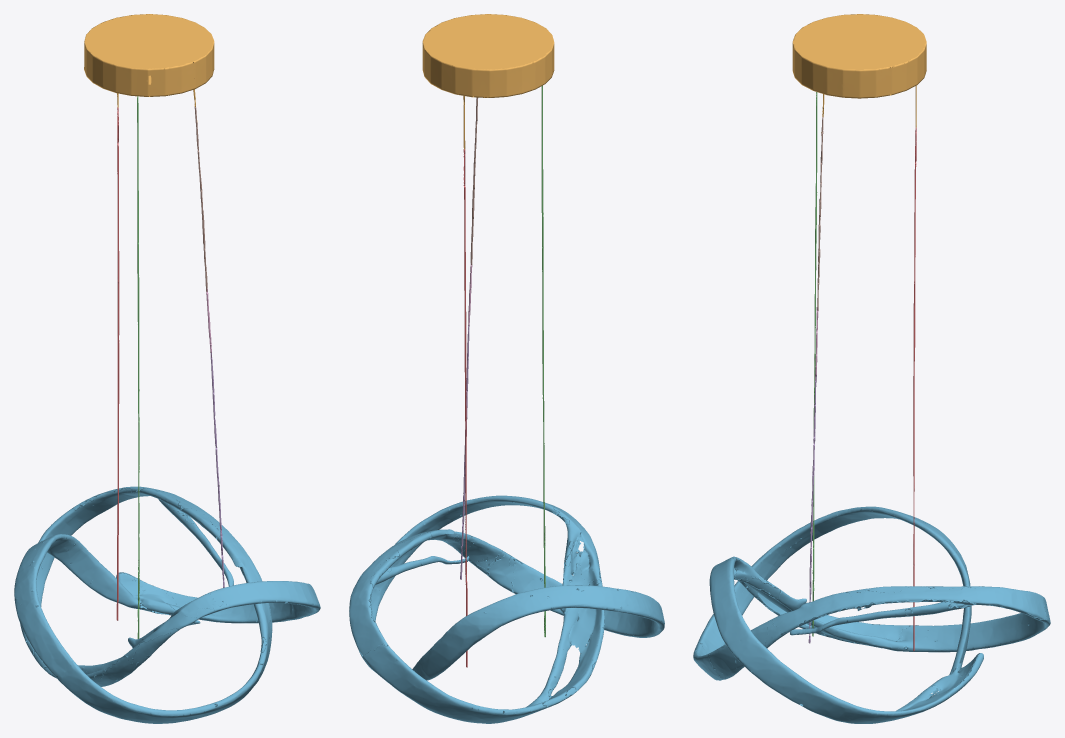
The model's file is pendant-light.glb.
The picture shows the model from 3 angles, left to right: view 1: azimuth 30°, elevation 25°; view 2: azimuth 150°, elevation 25°; view 3: azimuth 270°, elevation 25°; orthographic projection. The views are drawn at different scales.
Parts seen in each view (by area): view 1: Part 01, Part 02, Part 04, Part 03, Part 05; view 2: Part 01, Part 02, Part 03, Part 04, Part 05; view 3: Part 01, Part 02, Part 04, Part 03.
Boxes of the visible parts, bbox=[...] form: Part 01: bbox=[14, 486, 320, 723]; Part 02: bbox=[84, 14, 214, 121]; Part 04: bbox=[116, 107, 119, 620]; Part 03: bbox=[137, 96, 139, 638]; Part 05: bbox=[210, 352, 224, 587]; Part 01: bbox=[349, 495, 664, 723]; Part 02: bbox=[422, 14, 554, 149]; Part 03: bbox=[541, 85, 545, 637]; Part 04: bbox=[463, 149, 467, 667]; Part 05: bbox=[460, 325, 469, 579]; Part 01: bbox=[693, 506, 1050, 723]; Part 02: bbox=[792, 14, 926, 132]; Part 04: bbox=[913, 127, 916, 651]; Part 03: bbox=[812, 92, 817, 636].
Size of the model in its own units: 0.4593 by 0.9997 by 0.5039.
